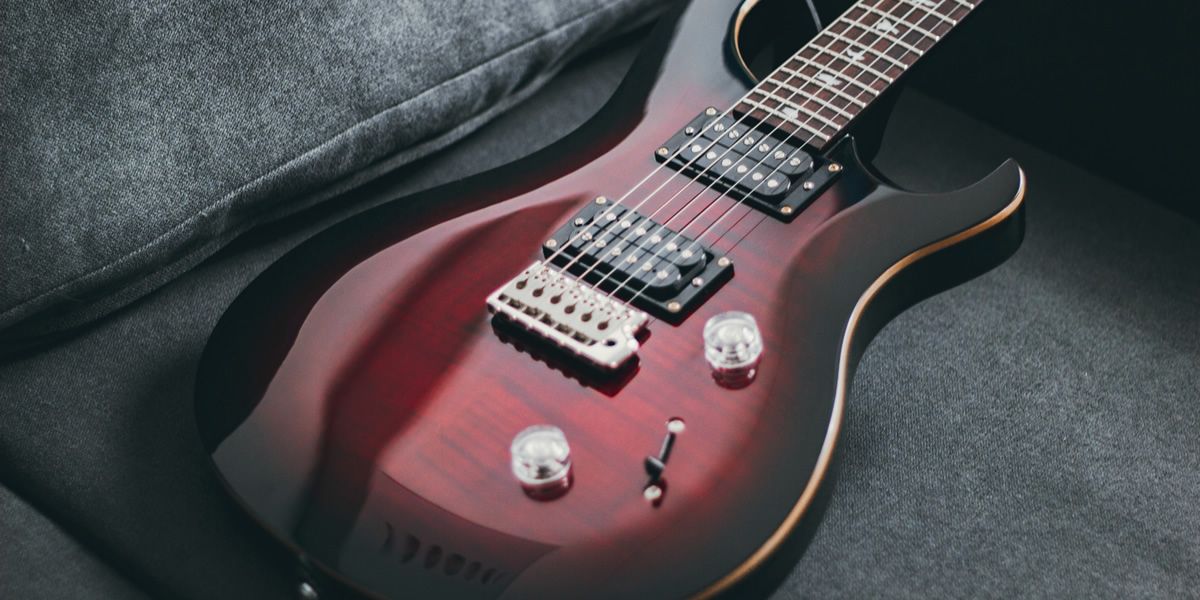guitar: (189, 0, 1064, 600)
